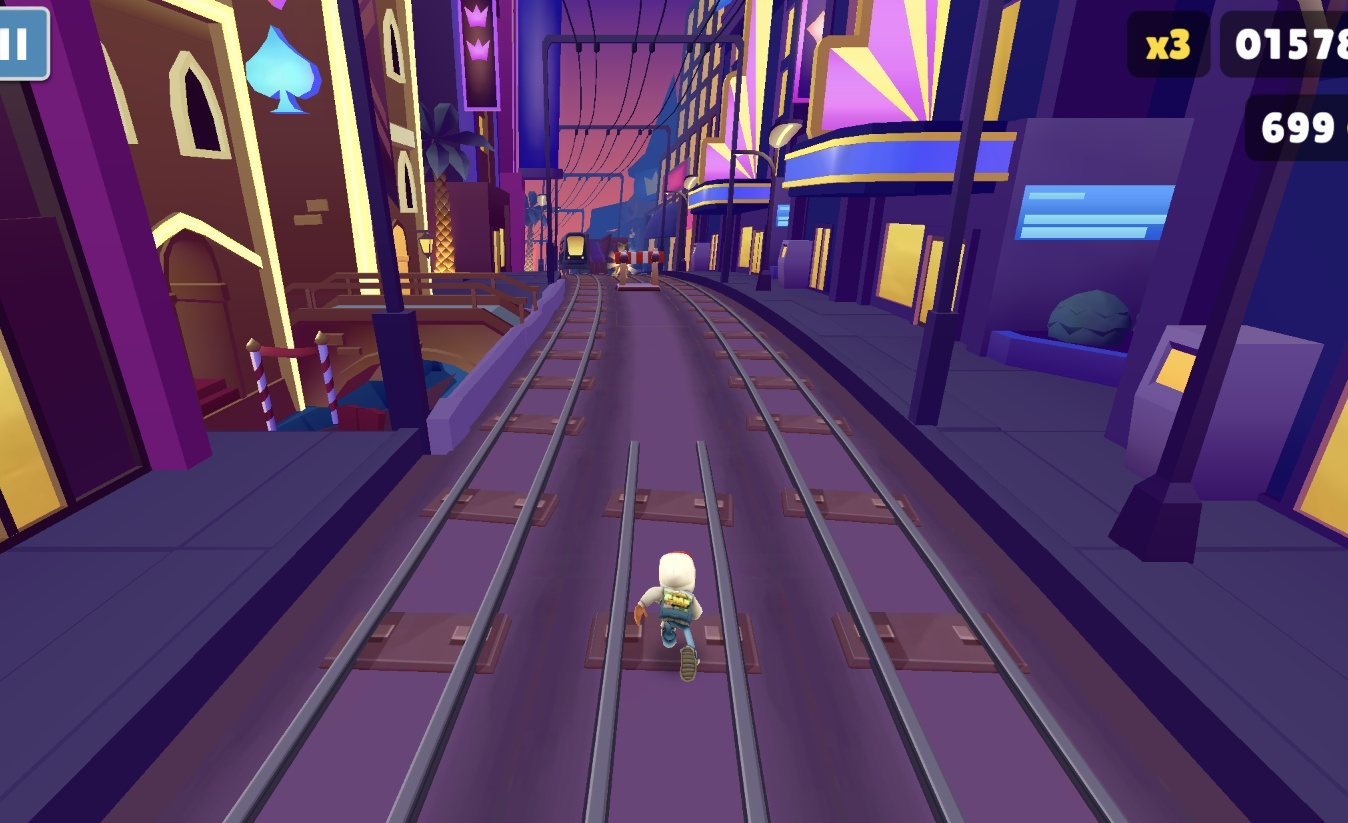ground_barrier: (607, 247, 637, 277)
